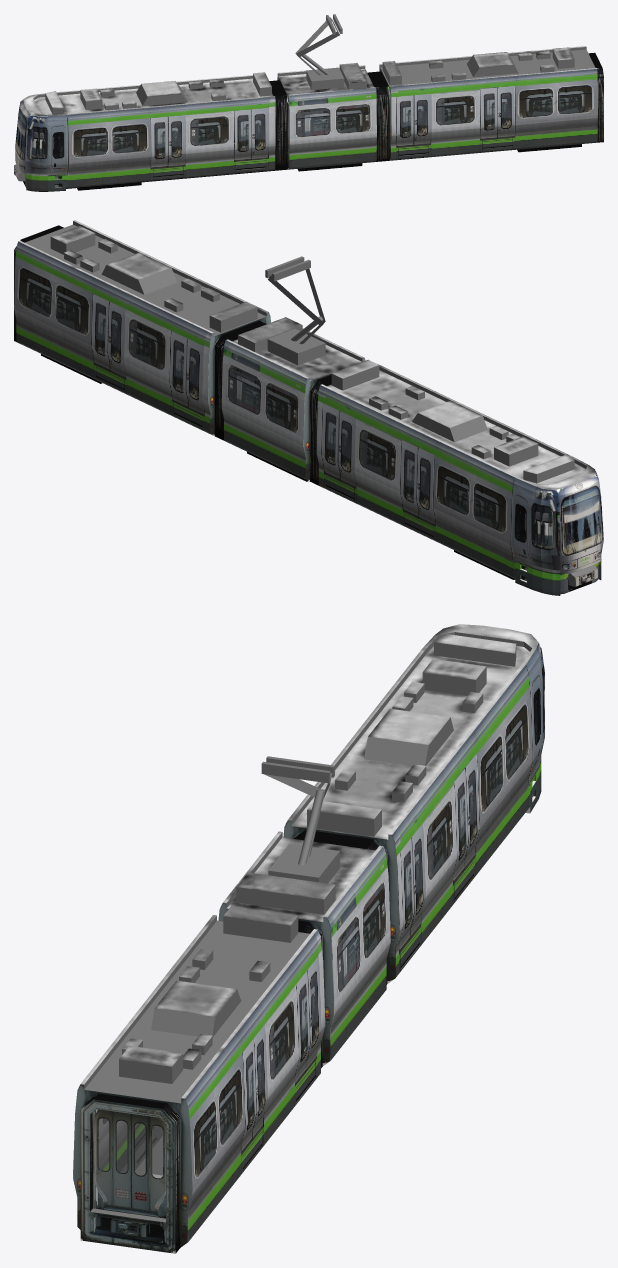
Rendered from GreenTrain.obj.
3 views of the same model, one above another, from view 1: azimuth 30°, elevation 25°; view 2: azimuth 150°, elevation 25°; view 3: azimuth 270°, elevation 25° (orthographic). The views are drawn at different scales.
Visible parts, largest first — view 1: Mesh1 Model, Mesh10 Model, Mesh6 Model, Mesh2 Model, Mesh7 Model, Mesh9 Model, Mesh8 Model; view 2: Mesh1 Model, Mesh10 Model, Mesh6 Model, Mesh2 Model, Mesh8 Model, Mesh9 Model, Mesh7 Model; view 3: Mesh1 Model, Mesh10 Model, Mesh2 Model, Mesh8 Model, Mesh9 Model, Mesh6 Model, Mesh4 Model.
Boxes of the visible parts, x1,y1,x2,y2 form: Mesh1 Model: (14, 46, 603, 191); Mesh10 Model: (467, 52, 518, 77); Mesh6 Model: (306, 67, 344, 90); Mesh2 Model: (339, 63, 366, 89); Mesh7 Model: (295, 17, 339, 75); Mesh9 Model: (552, 47, 574, 68); Mesh8 Model: (382, 61, 401, 85); Mesh1 Model: (14, 220, 603, 595); Mesh10 Model: (101, 252, 177, 294); Mesh6 Model: (267, 328, 325, 365); Mesh2 Model: (238, 317, 302, 352); Mesh8 Model: (209, 302, 257, 332); Mesh9 Model: (50, 226, 95, 254); Mesh7 Model: (268, 268, 325, 344); Mesh1 Model: (73, 624, 544, 1253); Mesh10 Model: (151, 980, 241, 1037); Mesh2 Model: (236, 872, 335, 914); Mesh8 Model: (223, 906, 298, 942); Mesh9 Model: (119, 1045, 182, 1083); Mesh6 Model: (268, 844, 339, 883); Mesh4 Model: (261, 761, 330, 783).
Size of the model in its own units: 23.56 by 6.28 by 9.66.
Materials: 13 (9 with a texture image).
